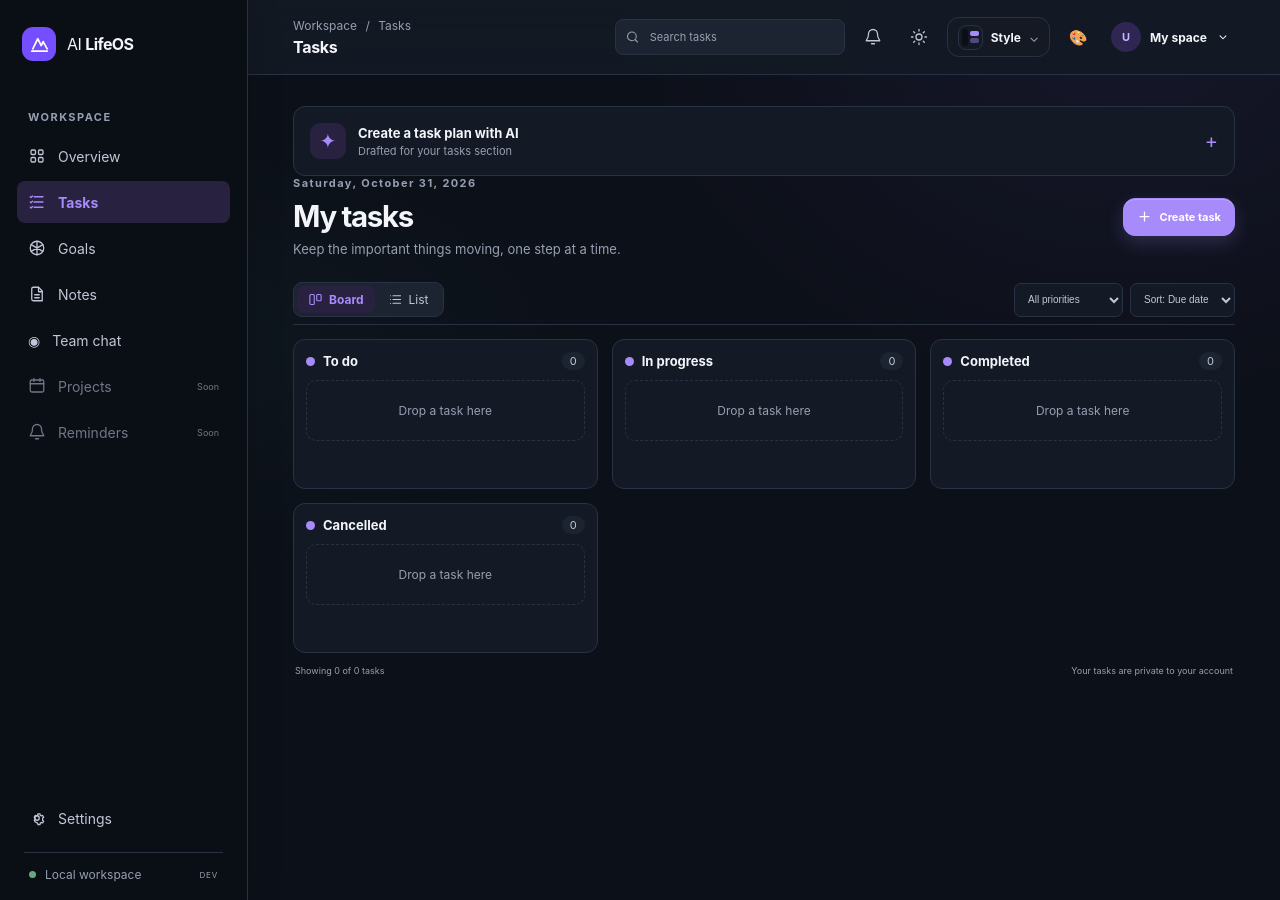
it: TasksComponent › opens the task form with accessible required fields and validation
Click the button "Create task" at x=1179, y=216, box [1122,198,1235,236]
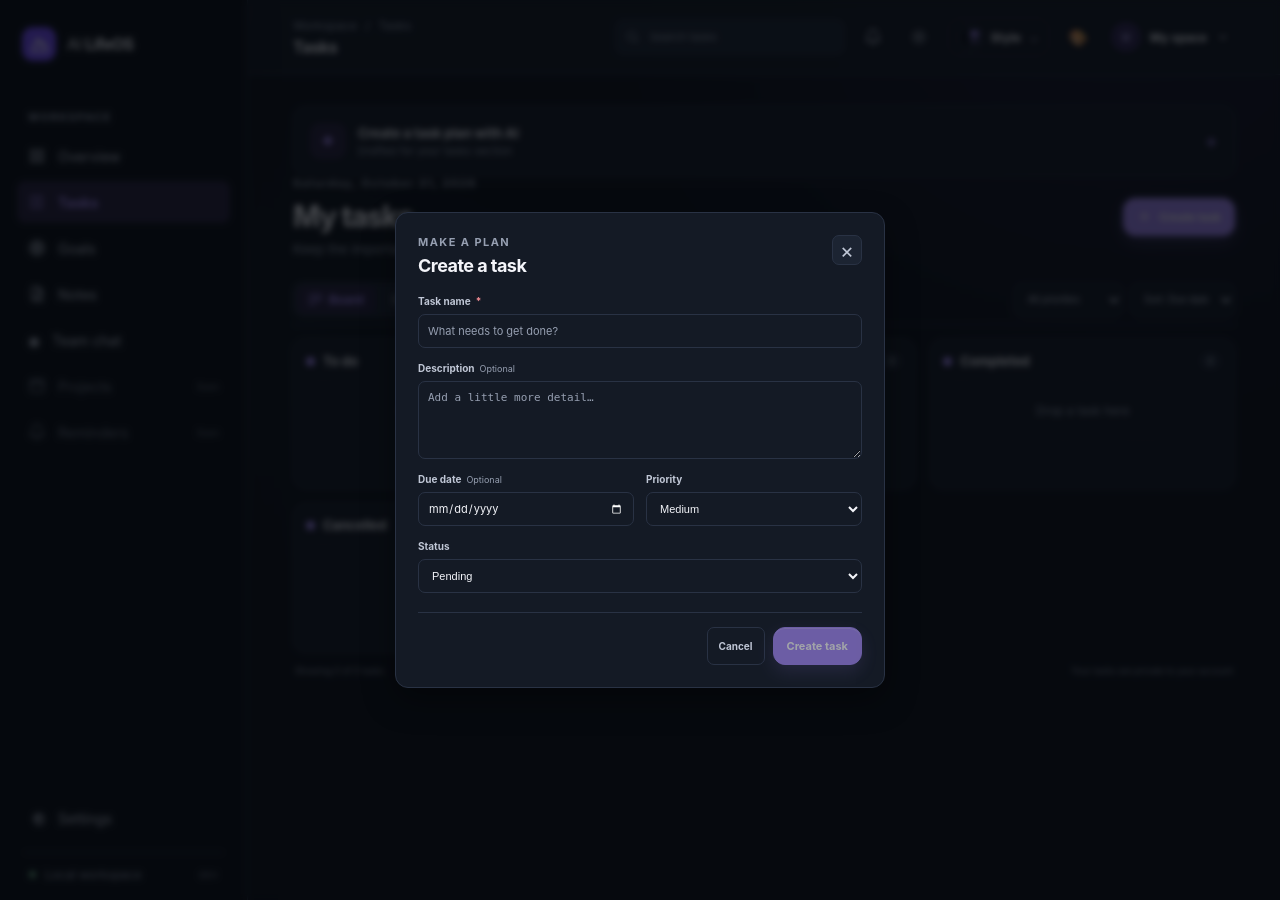
expect the dialog shows "Create a task": met, box [418,255,526,276]
expect the button "Create task" is disabled: met, box [772,627,862,665]
